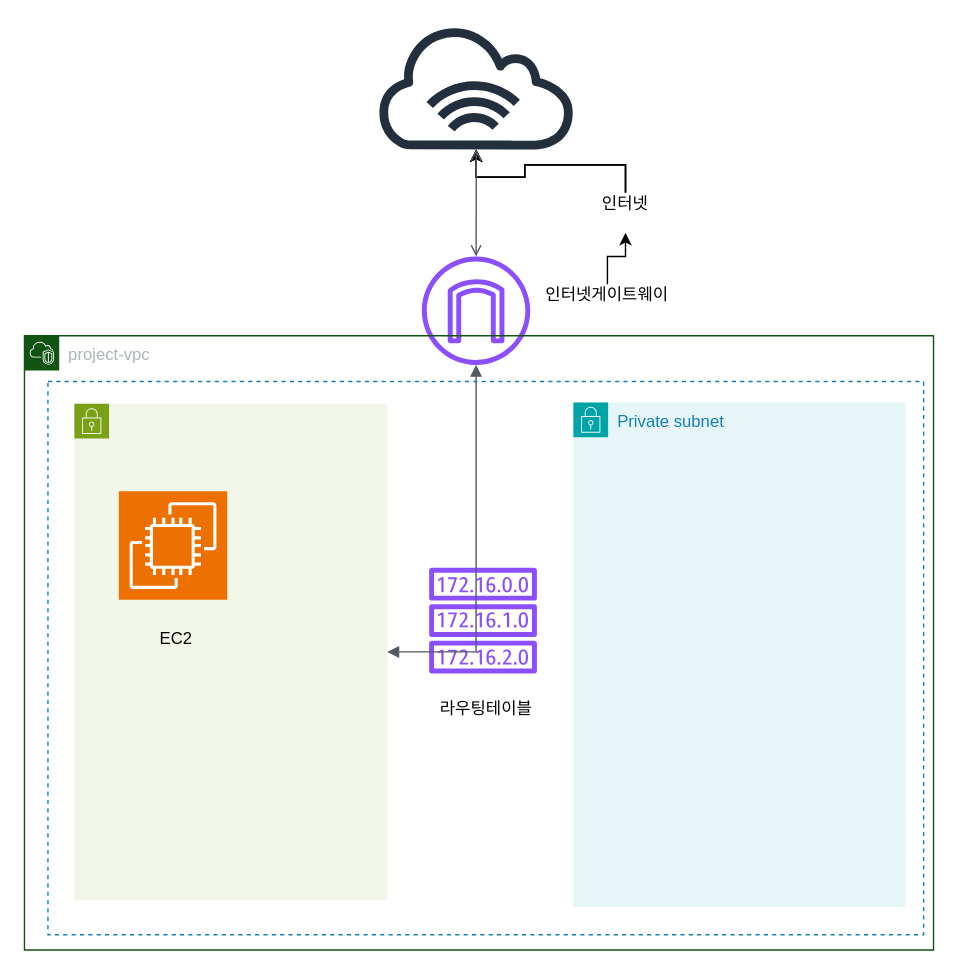
The diagram is 958 pixels wide and 974 high, and some of its shapes have lost their labels. Here are the shapes that lost their labels. From the top down, the box of each, then its label:
(73, 402, 387, 900): Public subnet
(47, 380, 924, 935): Availability Zone
